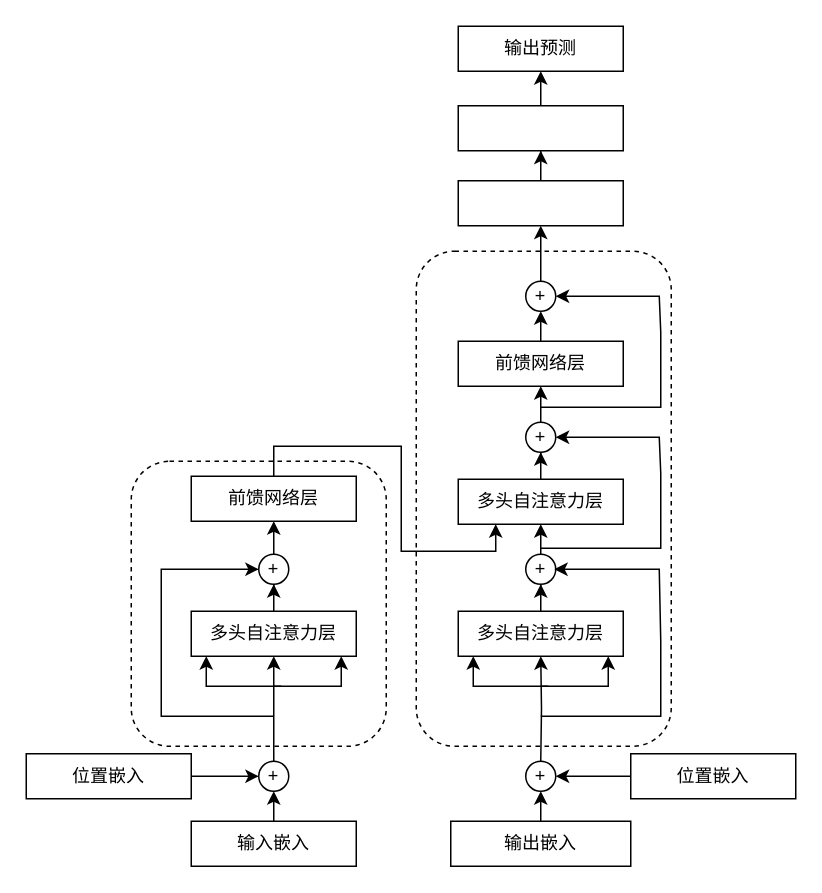
This 822x893 diagram has some shape labels left out. Each missing label, with the centre of its shape:
"Softmax层" goes at point (540, 127).
"线性层" goes at point (540, 202).
